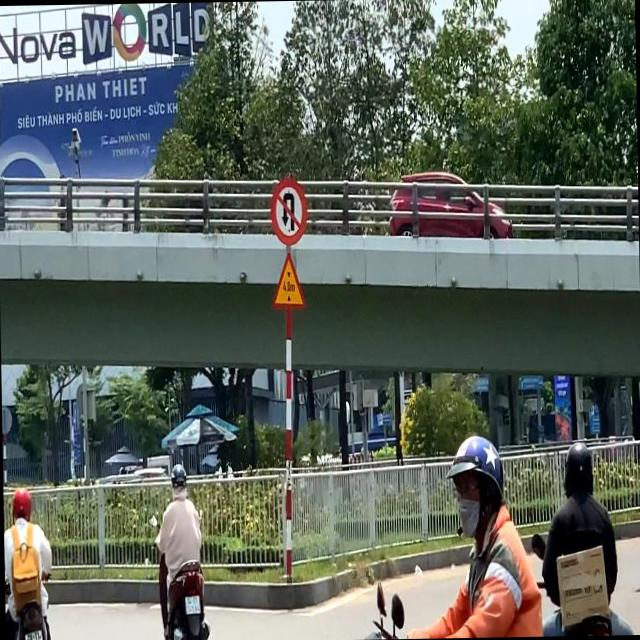P-124a1: (271, 181, 305, 244)
W-239b: (273, 252, 306, 307)
